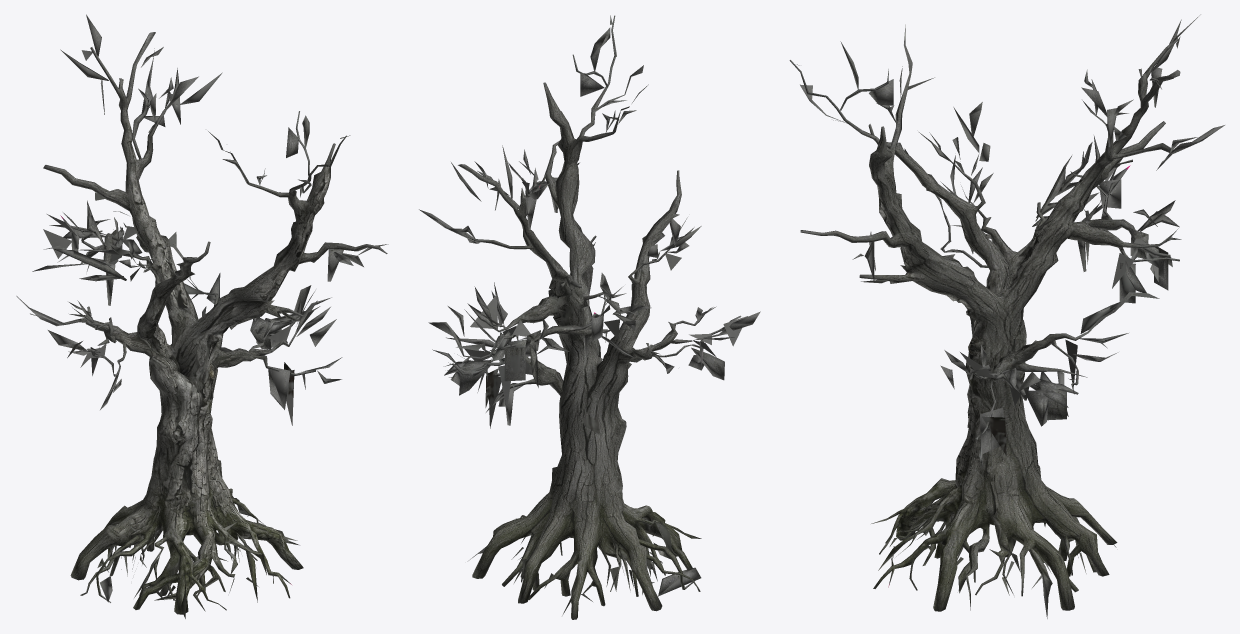
File: dead-tree1.glb
3 renders of one model, left to right at view 1: azimuth 30°, elevation 25°; view 2: azimuth 150°, elevation 25°; view 3: azimuth 270°, elevation 25°, orthographic. The views are drawn at different scales.
Size of the model in its own units: 0.6182 by 0.9507 by 0.6841.
1 material, 1 textured.
